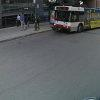Bus: (49, 1, 98, 36)
